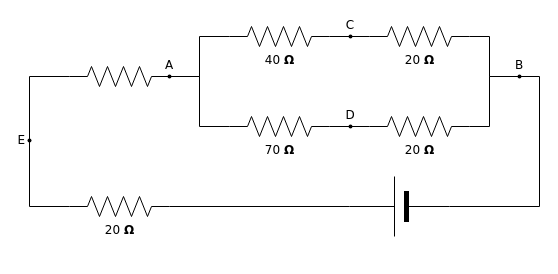
Image size: 558x274. Some labels were removed from this diagram. Each missing label, with the box of its shape:
220 V: (348, 176, 450, 236)
50 Ω: (68, 66, 170, 86)
